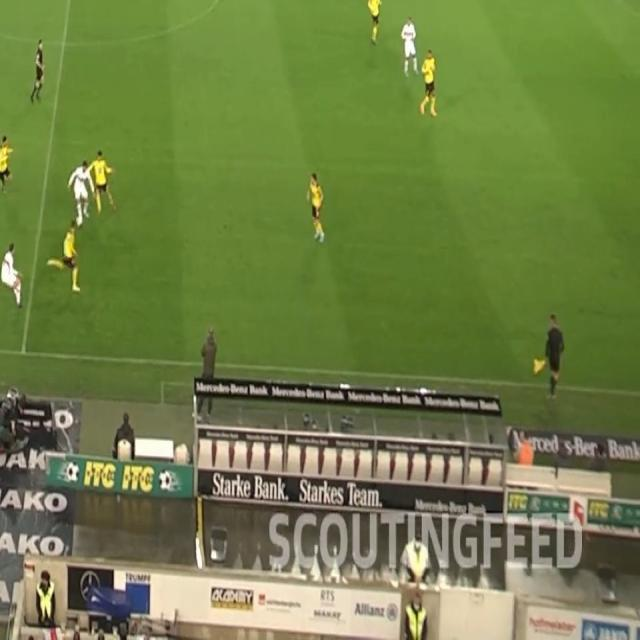ball: (76, 213, 83, 227)
